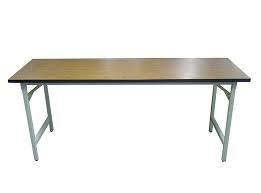desk: (5, 35, 254, 170)
